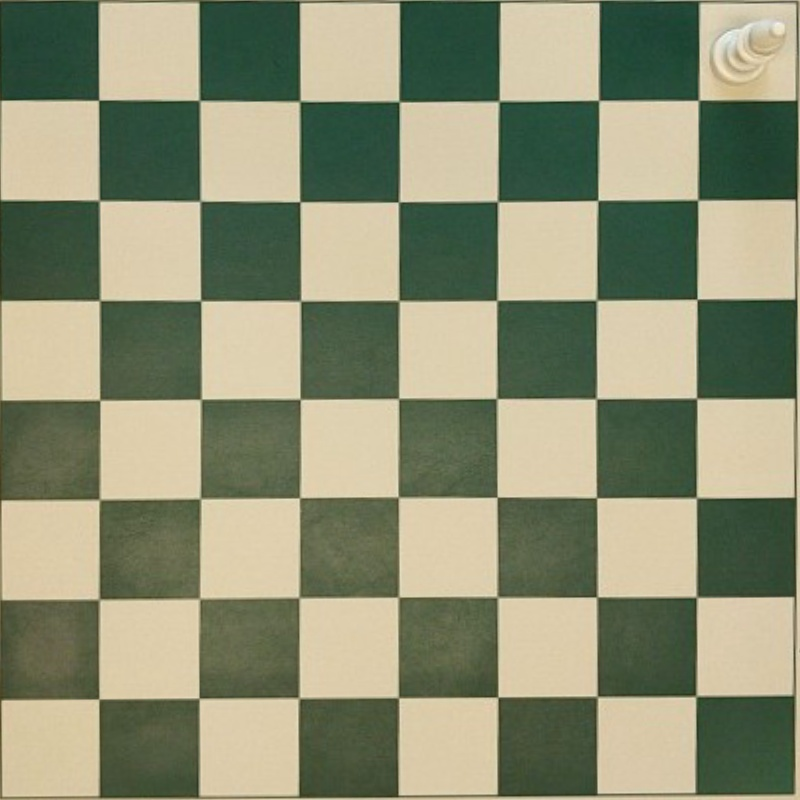white-bishop: (711, 17, 788, 85)
